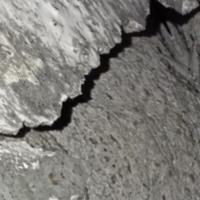crack: (3, 1, 196, 140)
